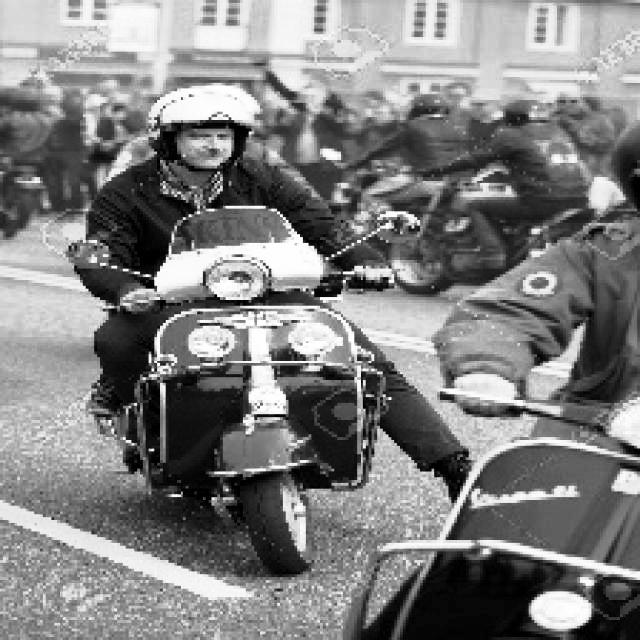Bike: (110, 264, 386, 571), (403, 188, 533, 290)
